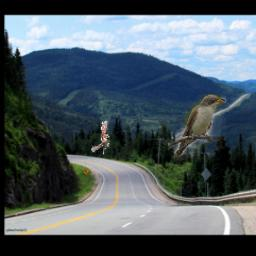Cuckoo: (167, 95, 225, 166)
Sparrow: (91, 120, 110, 154)
